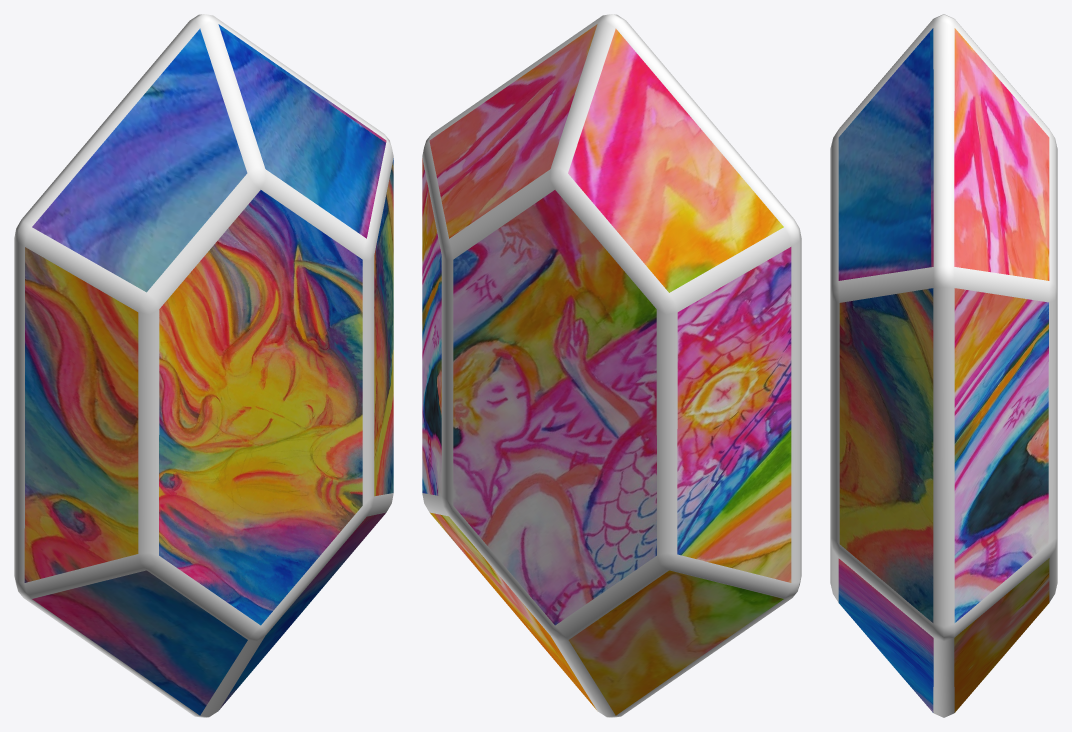
Rendered from snake_bull.fbx.
3 renders of one model, left to right at view 1: azimuth 30°, elevation 25°; view 2: azimuth 150°, elevation 25°; view 3: azimuth 270°, elevation 25°, orthographic.
Visible parts, largest first — view 1: Rupee_GEO; view 2: Rupee_GEO; view 3: Rupee_GEO.
Boxes of the visible parts, x1,y1,x2,y2 form: Rupee_GEO: (14, 14, 393, 717); Rupee_GEO: (422, 14, 801, 717); Rupee_GEO: (830, 14, 1057, 717).
Size of the model in its own units: 0.9044 by 1.72 by 3.09.
